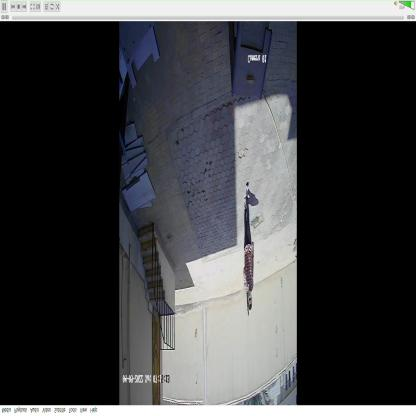handgun: (243, 281, 251, 323)
